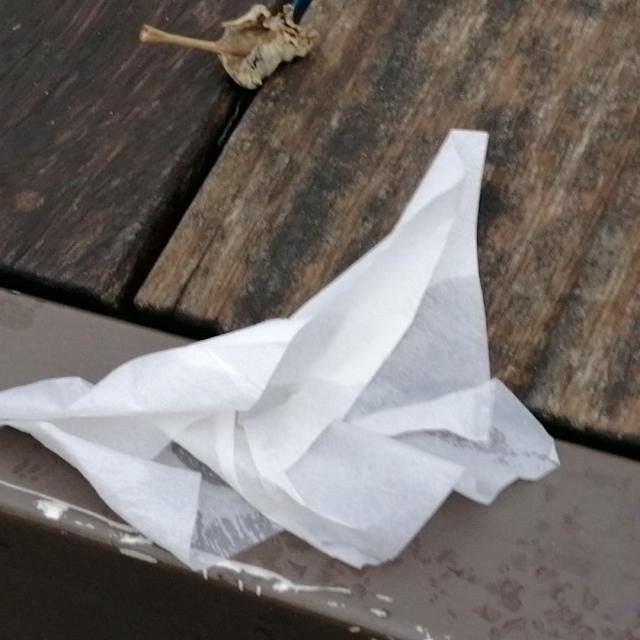Paper: (0, 129, 564, 565)
